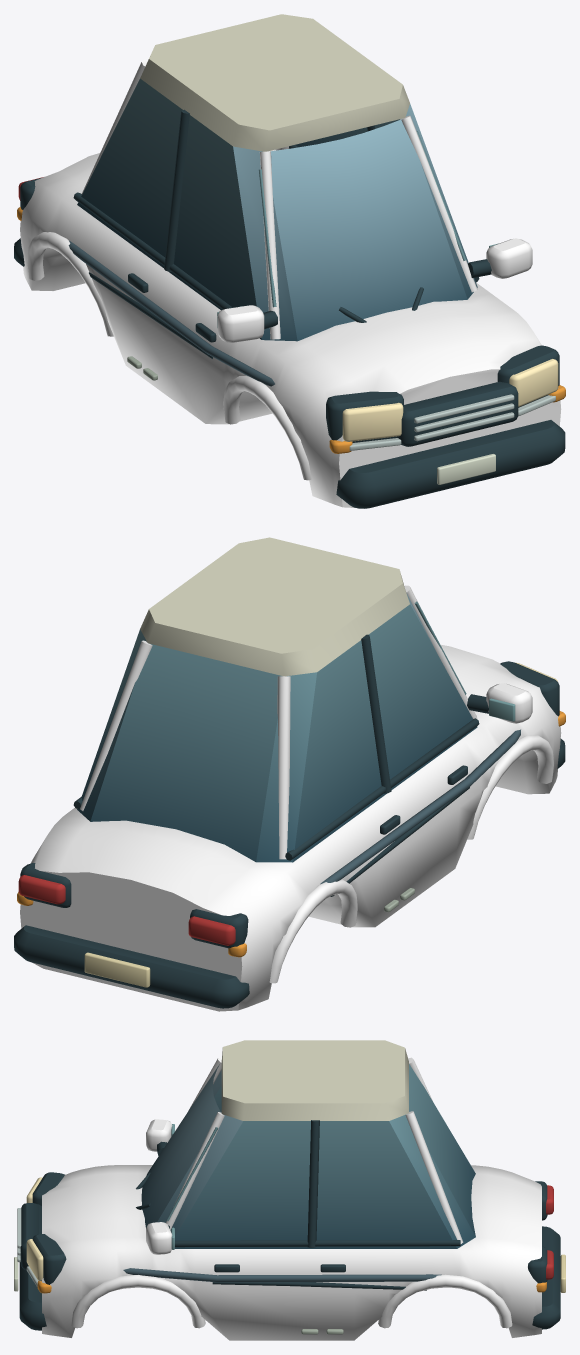
The model's file is loop.glb.
3 renders of one model, top to bottom at view 1: azimuth 30°, elevation 25°; view 2: azimuth 150°, elevation 25°; view 3: azimuth 270°, elevation 25°, orthographic. The views are drawn at different scales.
Visible parts, largest first — view 1: Chassis, Headlamps; view 2: Chassis, BrakeLamps; view 3: Chassis, Headlamps, BrakeLamps.
Part boxes in pixels (x1,y1,x2,y2): Chassis: (14,14,565,508); Headlamps: (342,359,558,441); Chassis: (14,537,565,1011); BrakeLamps: (18,875,235,945); Chassis: (14,1040,565,1340); Headlamps: (26,1177,43,1281); BrakeLamps: (546,1185,553,1279).
Bounding box in the file's own units: 1.56 × 1.38 × 3.07.
